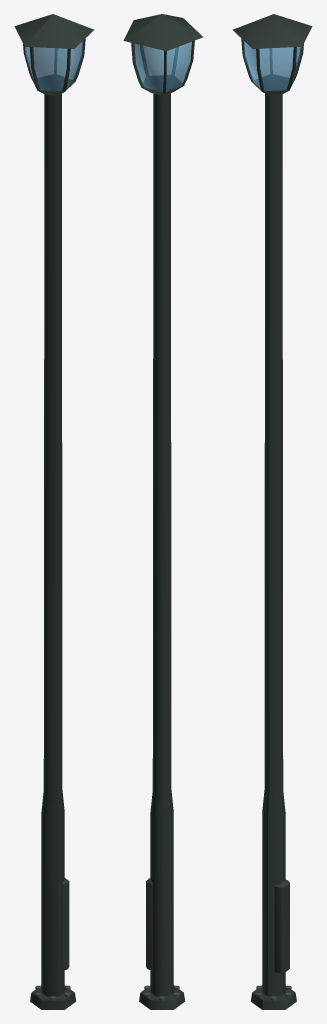
Rendered from streetlight.glb.
The picture shows the model from 3 angles, left to right: view 1: azimuth 30°, elevation 25°; view 2: azimuth 150°, elevation 25°; view 3: azimuth 330°, elevation 25°; orthographic projection.
Parts seen in each view (by area): view 1: Cylindrical Lathe (×2), LanternTop, Cube, Cylinder, LanternBase; view 2: Cylindrical Lathe (×2), LanternTop, Cylinder, Cube, LanternBase; view 3: Cylindrical Lathe (×2), LanternTop, Cube, Cylinder, LanternBase.
Part boxes in pixels (x1,y1,x2,y2): Cylindrical Lathe (×2): (25,41,83,996); LanternTop: (14,14,94,48); Cube: (62,878,69,970); Cylinder: (30,985,76,1009); LanternBase: (32,74,74,95); Cylindrical Lathe (×2): (134,41,191,996); LanternTop: (123,14,202,51); Cylinder: (139,985,185,1009); Cube: (146,878,152,970); LanternBase: (141,75,184,95); Cylindrical Lathe (×2): (243,41,301,996); LanternTop: (232,14,312,48); Cube: (274,880,289,974); Cylinder: (250,985,296,1009); LanternBase: (252,74,294,95).
Bounding box in the file's own units: 0.324 × 4.38 × 0.3081.
